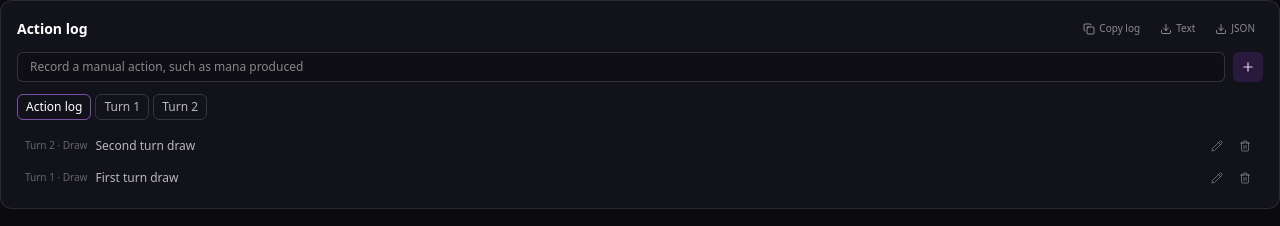
Test case: PlaytestActionLog › filters visible actions by turn and can show the full log again
The image size is (1280, 226).
Click the button "Turn 1" at (122, 107), box x1=95 y1=94 x2=149 y2=120
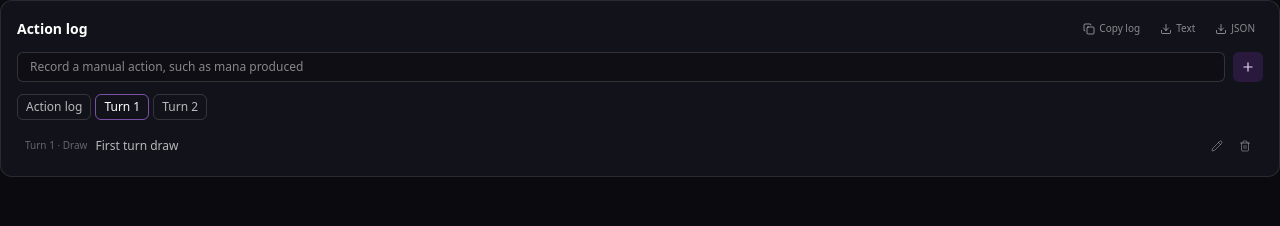
Expected: the text "First turn draw" is shown, x1=96 y1=137 x2=178 y2=154
Expected: the text "Second turn draw" is gone
Click the button "Action log" at (54, 107), box x1=17 y1=94 x2=91 y2=120
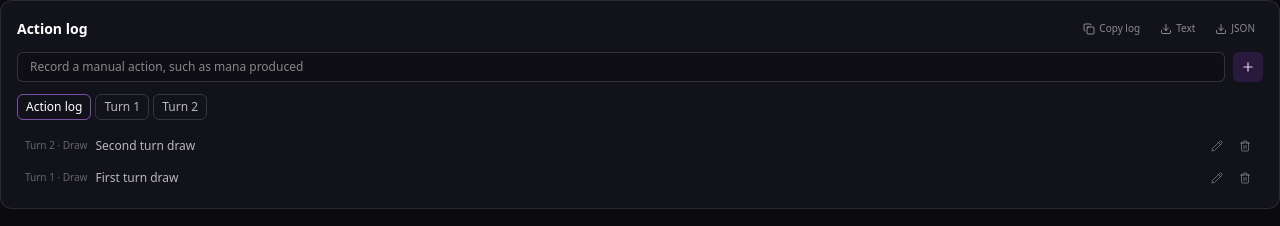
Expected: the text "Second turn draw" is shown, x1=96 y1=137 x2=195 y2=154
